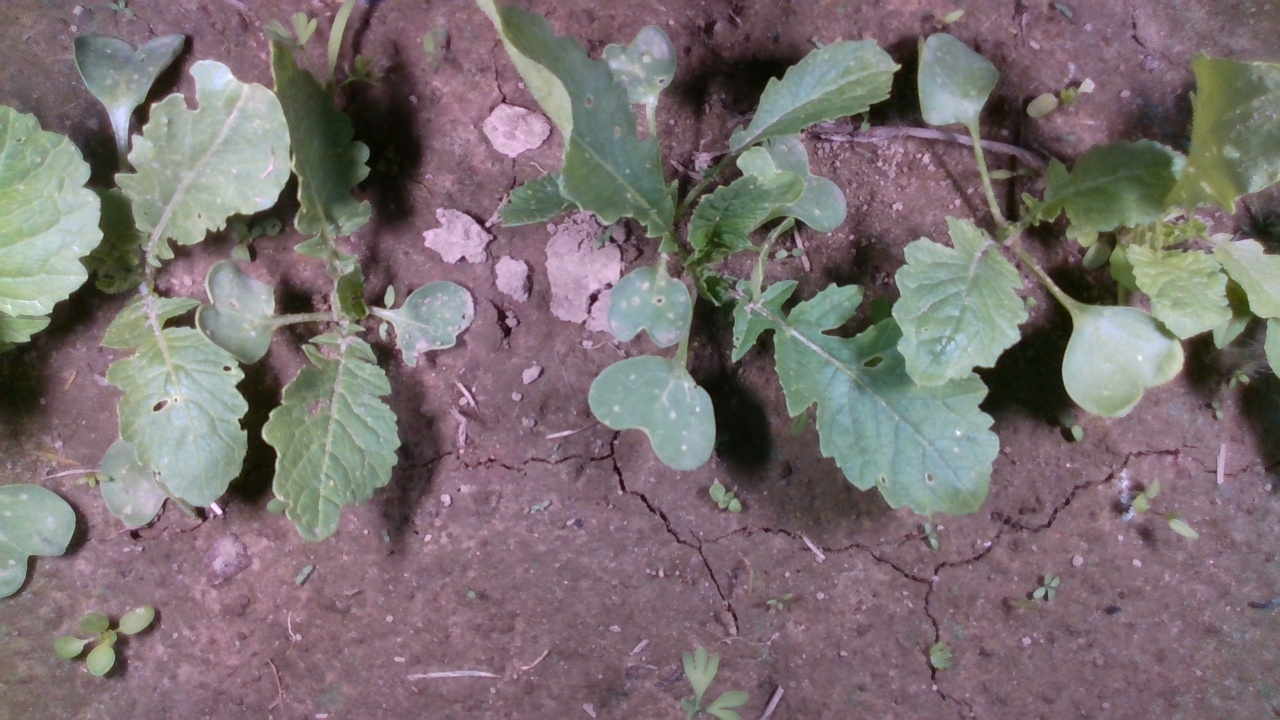weed: (923, 520, 940, 550)
